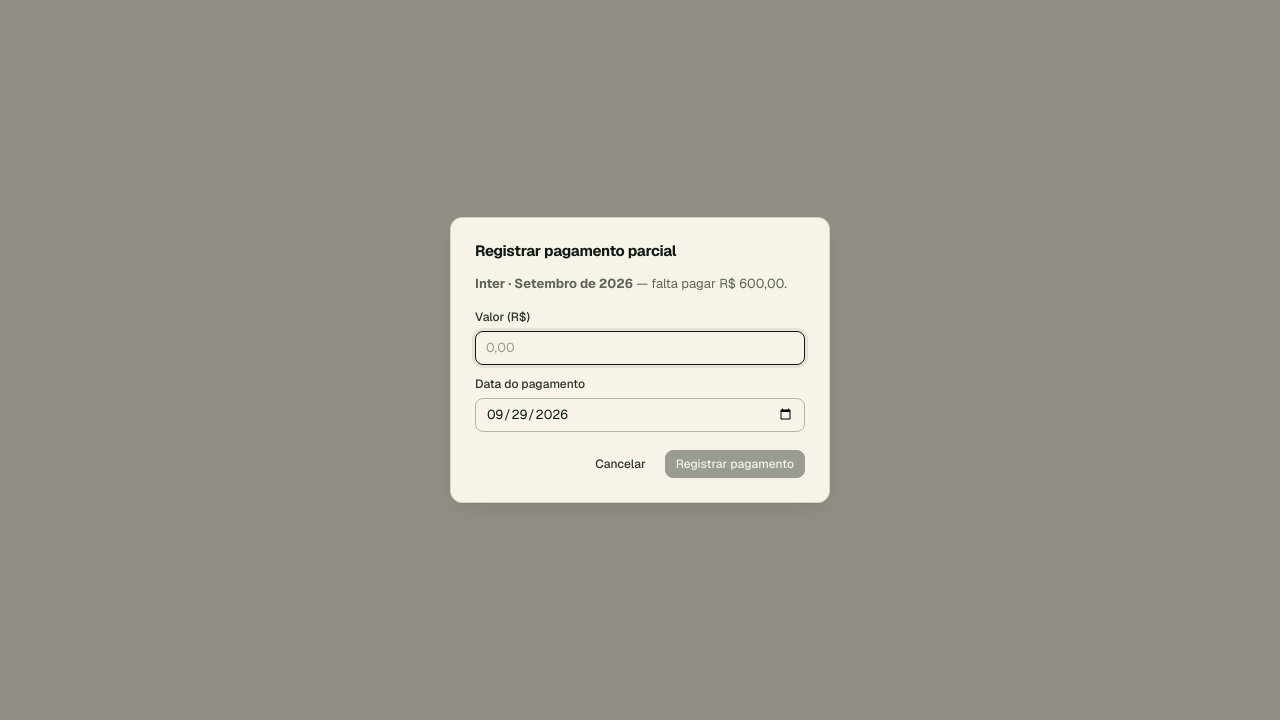
Test: RegistrarPagamentoParcialModal › enquanto registra, não deixa registrar de novo
The image size is (1280, 720).
Type "200,00" into the field labelled "Valor (R$)" at (640, 348), box [475,331,805,365]
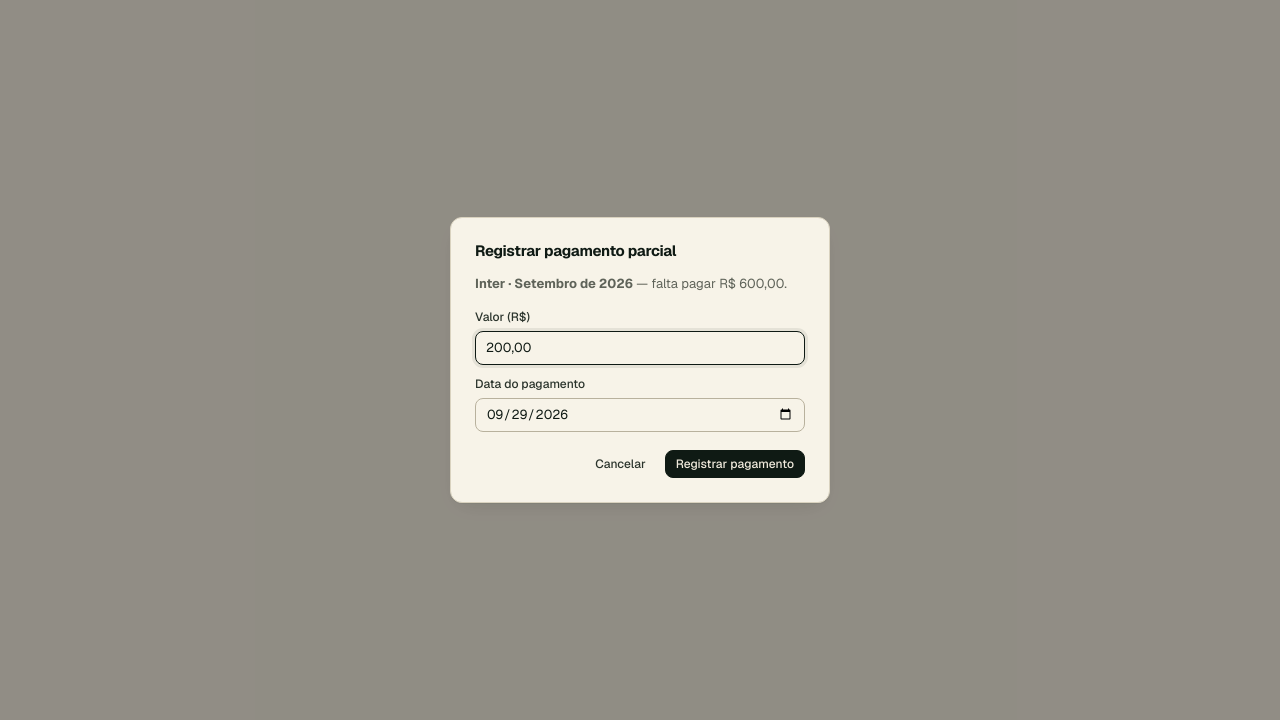
Click the button "Registrar pagamento" at (735, 464), box [665,450,805,478]
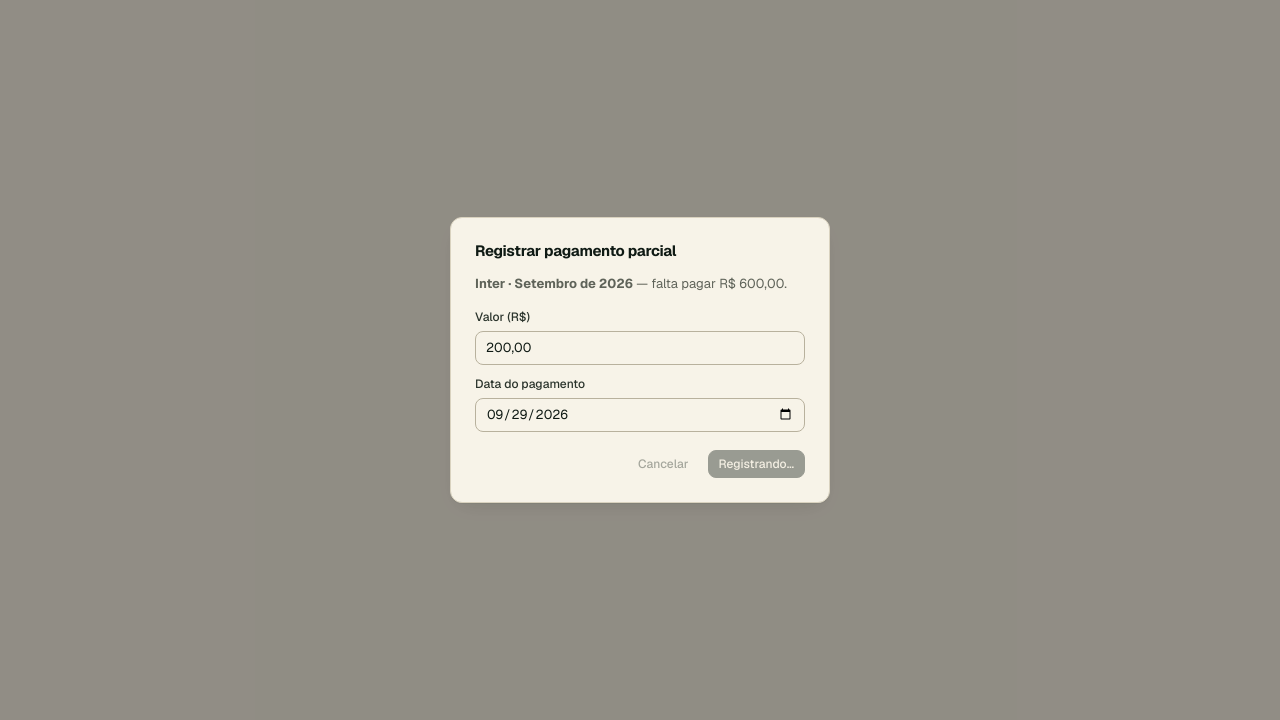
Now the button "Registrando…" is disabled, box [708,450,805,478]
Now the button "Registrando…" is shown, box [708,450,805,478]
